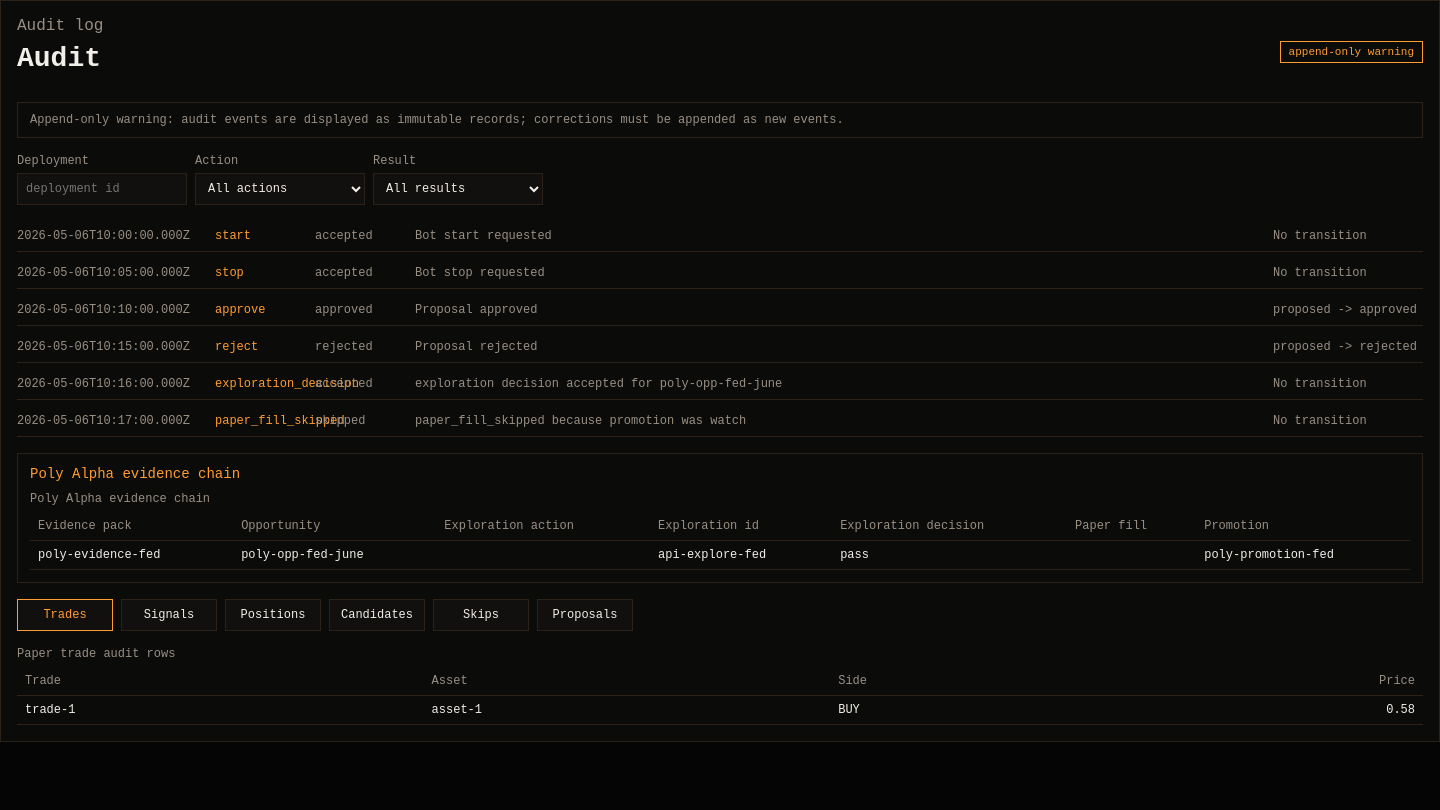
Test case: AuditPage › keeps signal rows visible when deployment filter matches events but not signal ids
expect the heading "Audit" is shown: met, box [17, 43, 103, 74]
Type "dep-test" into the field labelled "Deployment" at point(102, 189), box [17, 173, 187, 205]
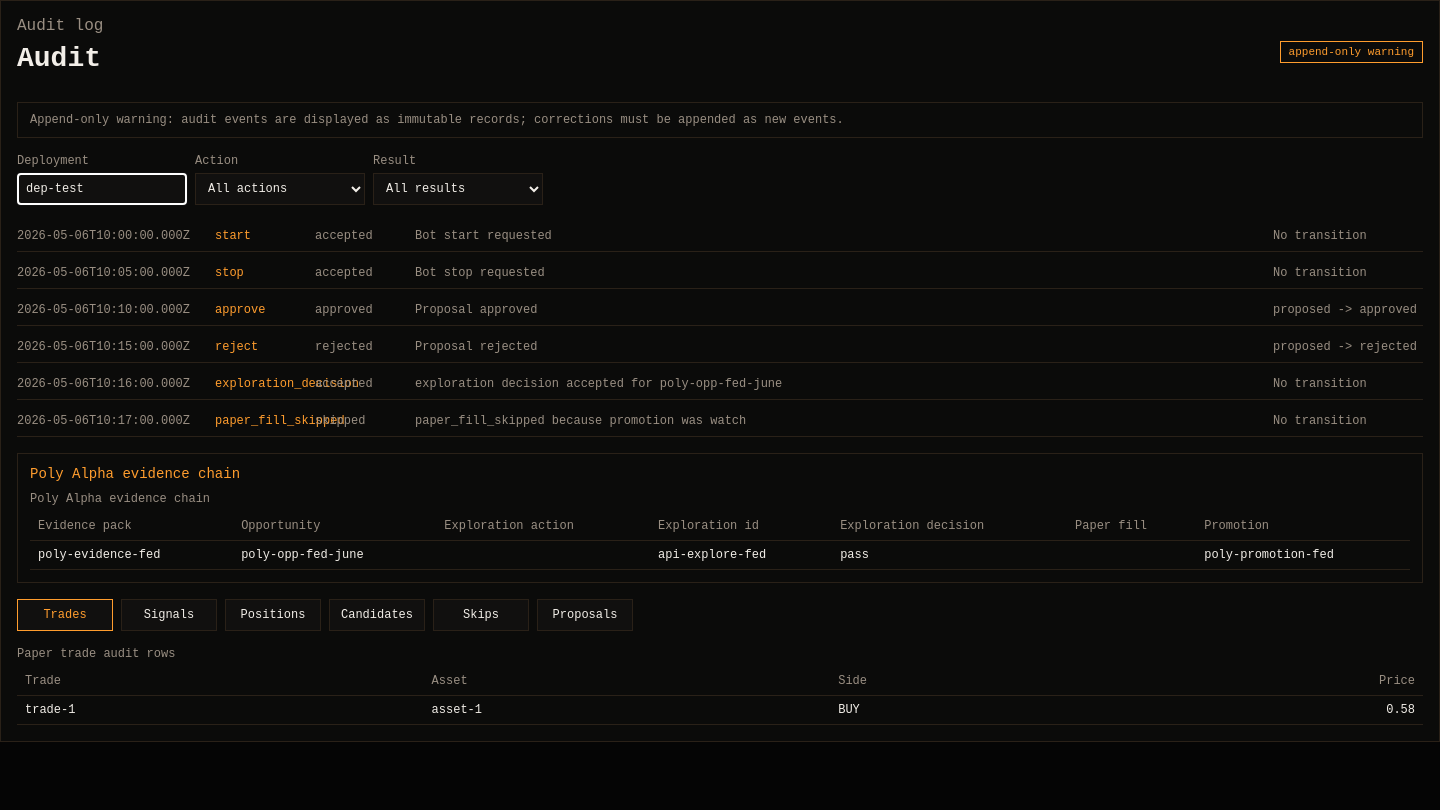
Click the tab "signals" at point(169, 615), box [121, 599, 217, 631]
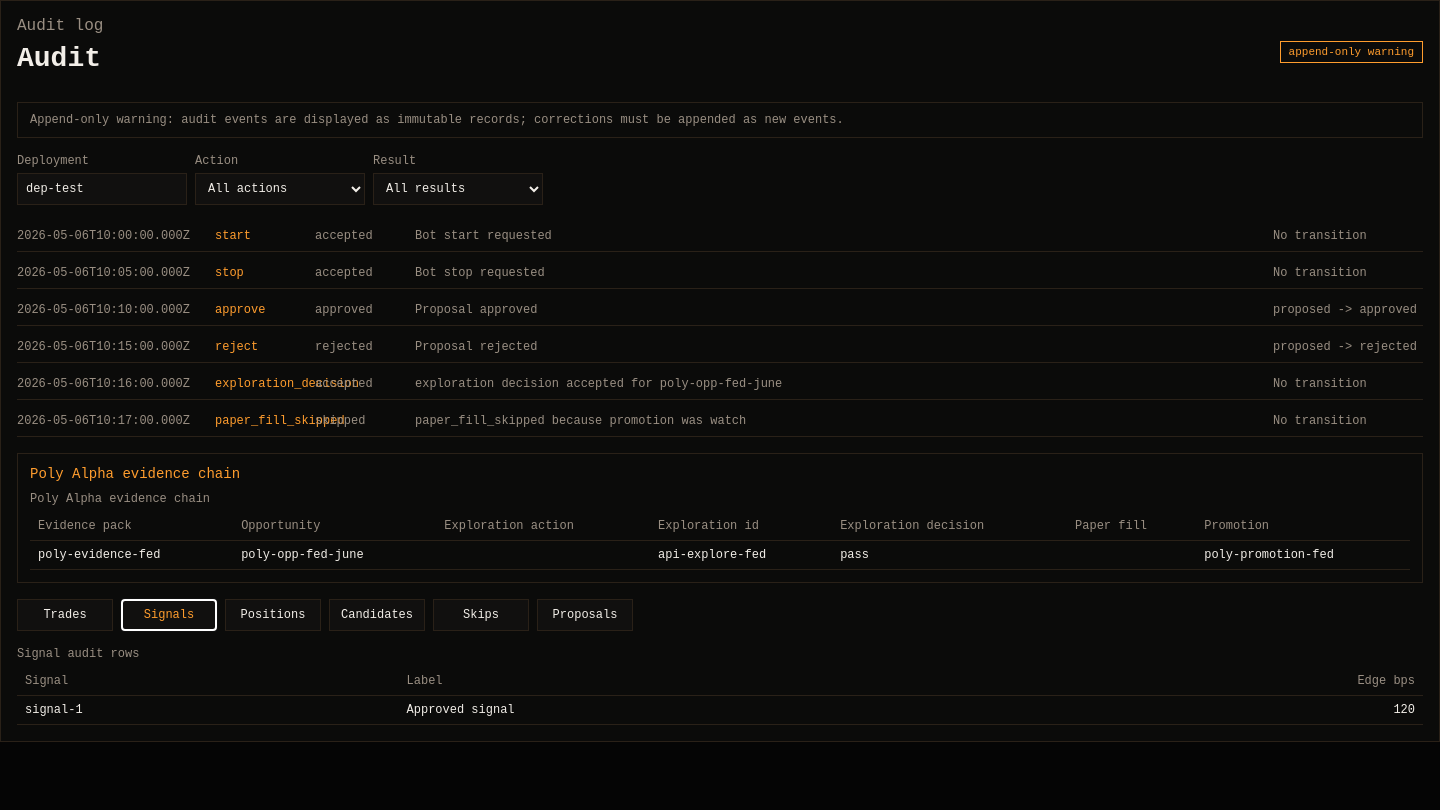
expect the text "signal-1" is shown: met, box [17, 696, 398, 724]
